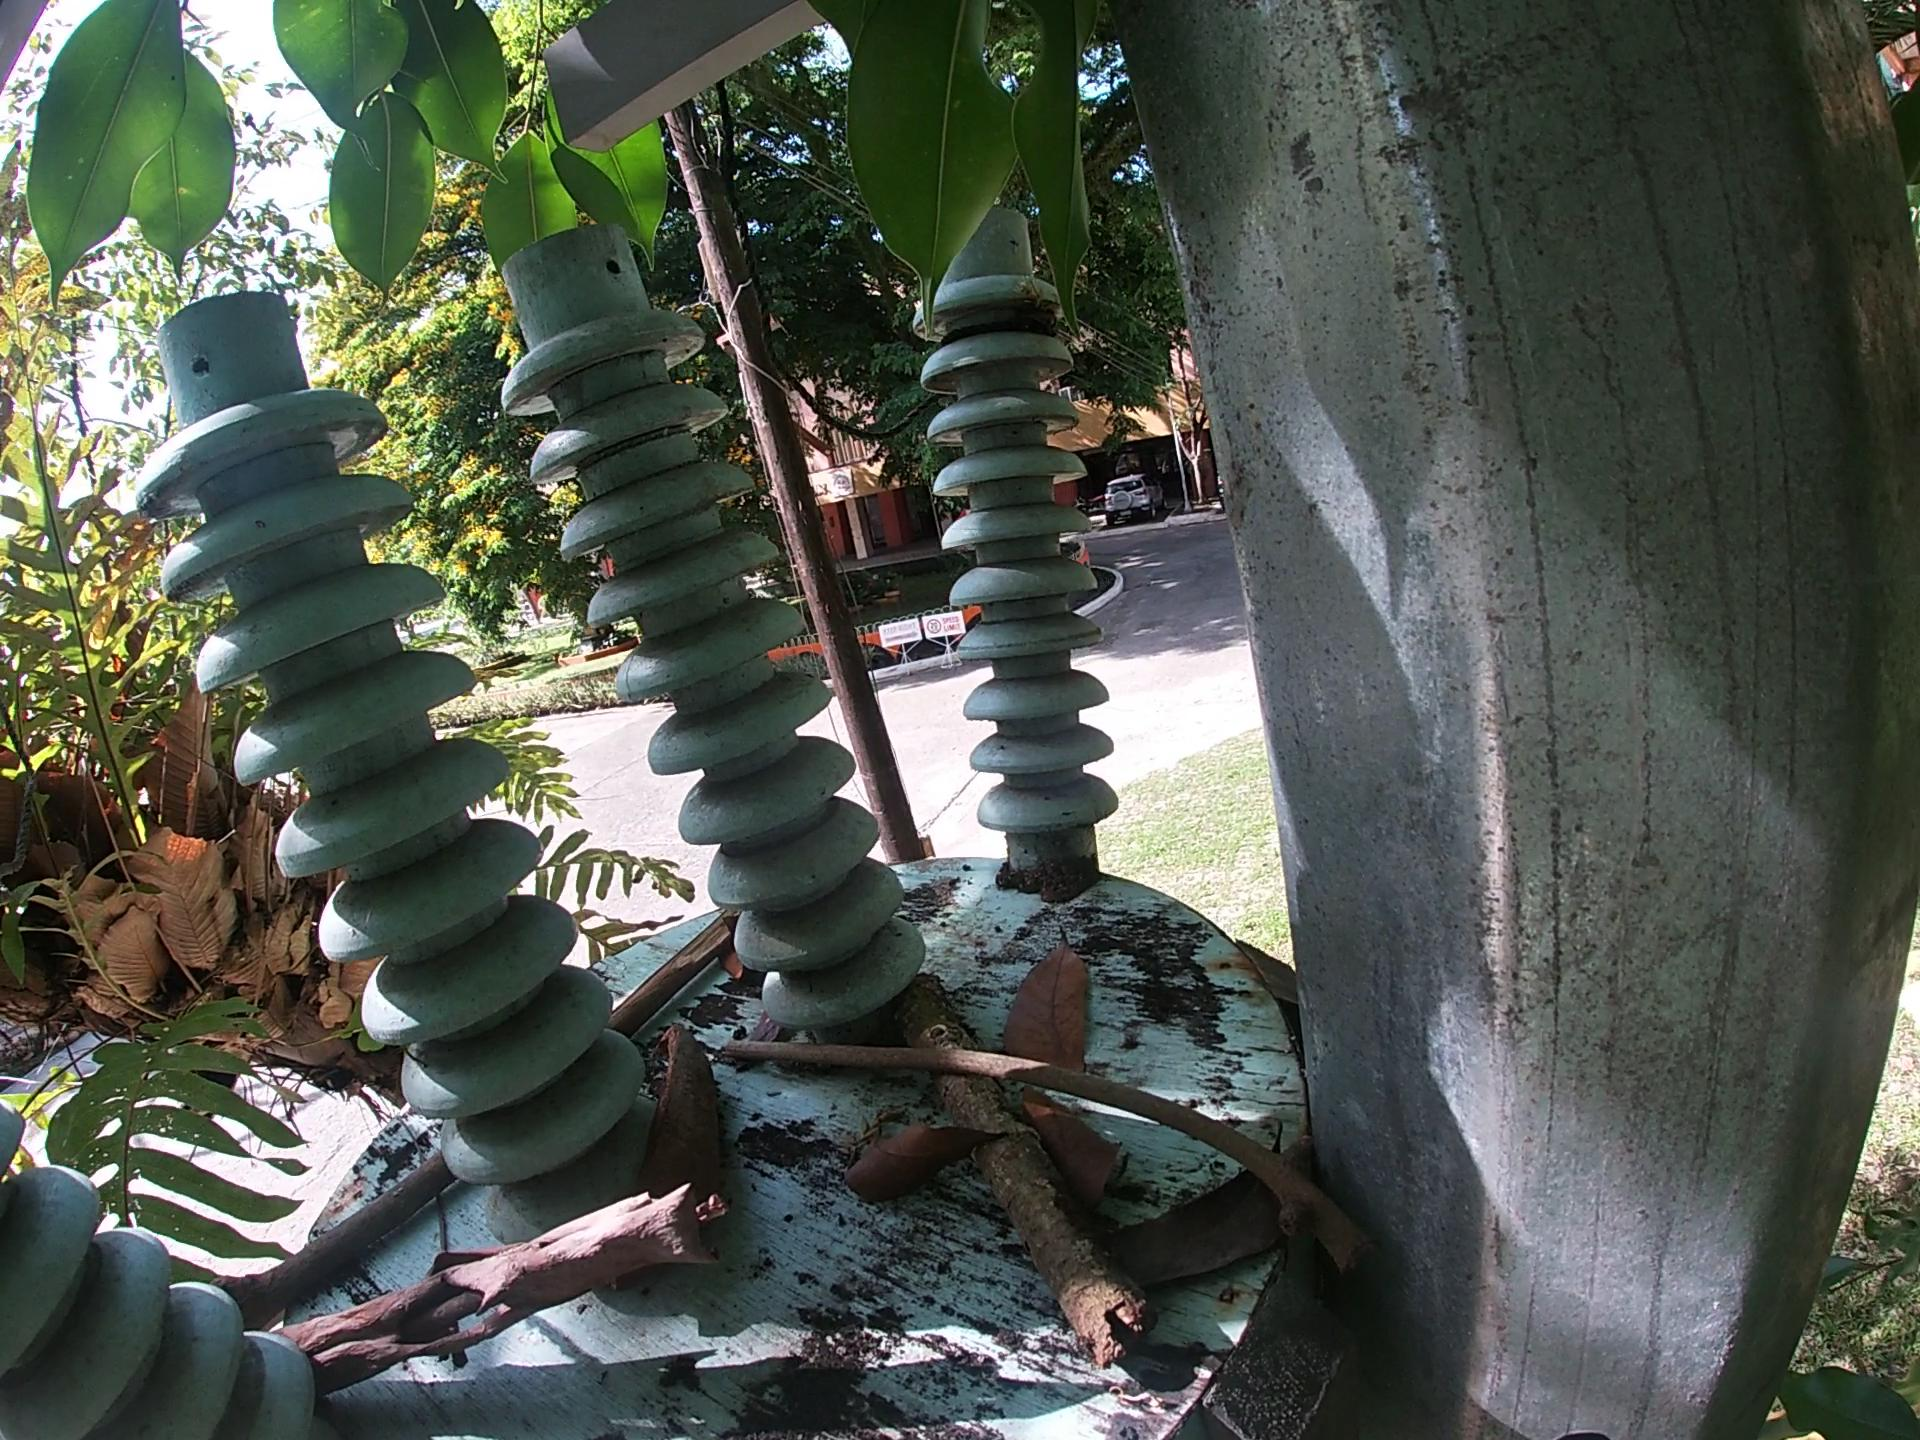leaf: (1108, 1128, 1339, 1289), (1020, 1080, 1146, 1237), (989, 911, 1120, 1057), (844, 1115, 1014, 1209)
mahogany fruit: (639, 1009, 723, 1201), (714, 942, 756, 985)
tree branch: (700, 1042, 1385, 1265), (277, 1178, 757, 1398), (910, 986, 1175, 1369), (204, 1147, 466, 1311), (608, 914, 742, 1036), (420, 1180, 464, 1277)
